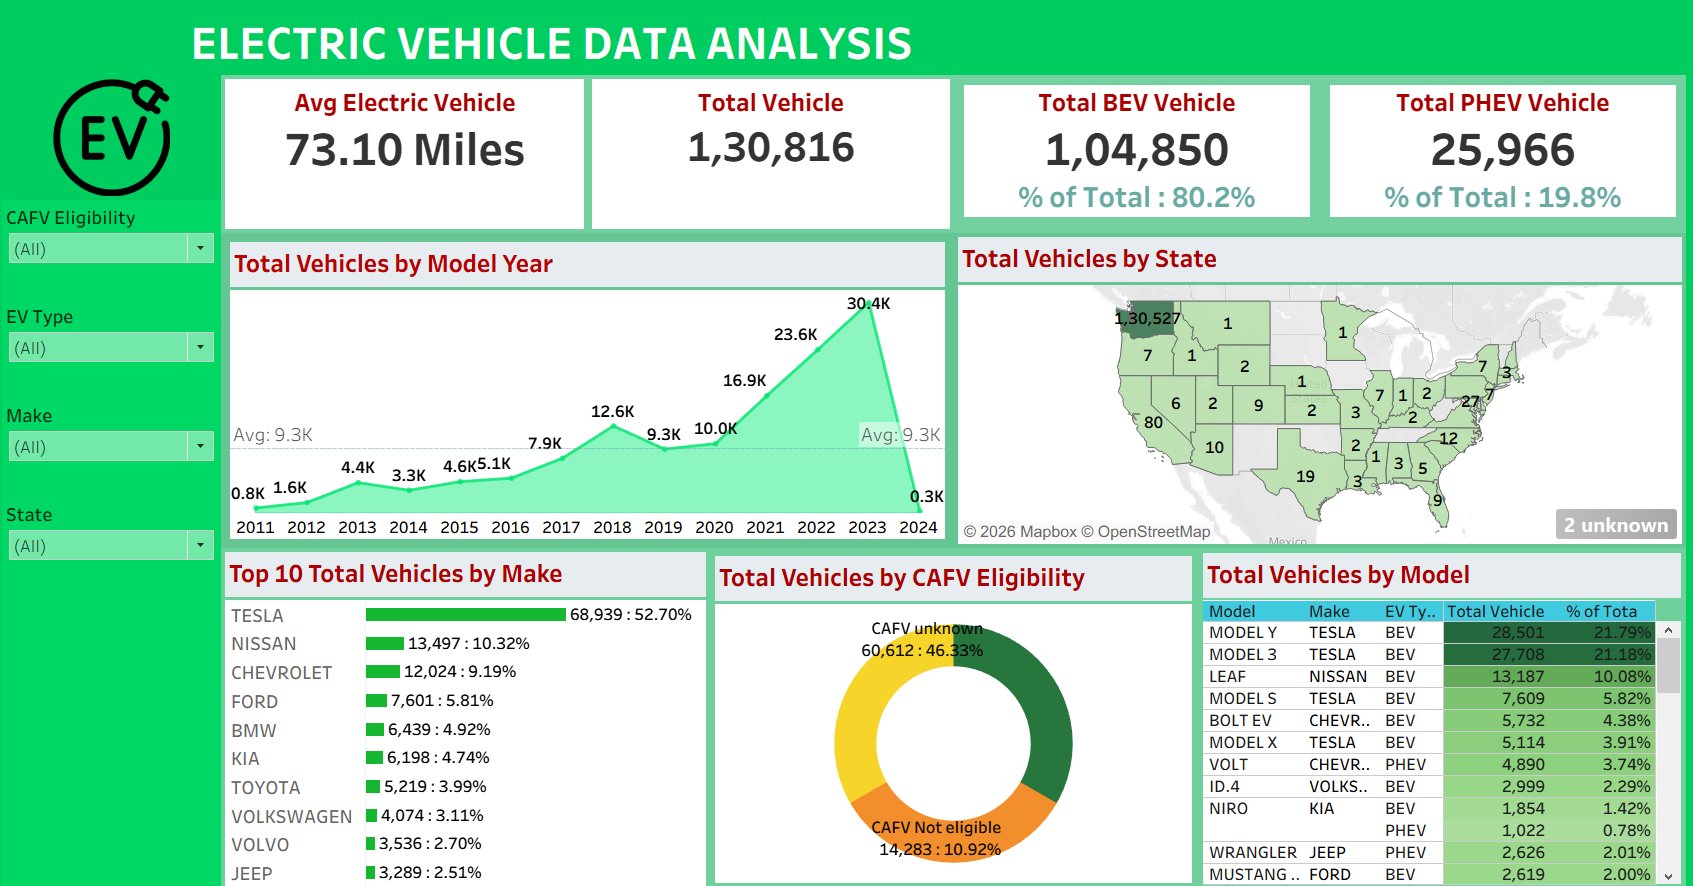

The page's visual inventory and layout, read from the dashboard file:
{"tool":"tableau","page":{"name":"Dashboard 1","canvas":[1000,1000],"units":"permille","ordinal":0},"visuals":[{"type":"title","box":[5,8.9,990,75.6]},{"type":"worksheet","title":"Avg Electric Range","mark":"Automatic","box":[133.8,84.4,215.6,192.2]},{"type":"worksheet","title":"Total Vehicle","mark":"Automatic","box":[349.4,84.4,215.6,192.2]},{"type":"worksheet","title":"Total BEV Vehicle","mark":"Automatic","box":[565,84.4,215,192.2]},{"type":"worksheet","title":"Total PHEV Vehicle","mark":"Automatic","box":[780,84.4,215,192.2]},{"type":"filter","title":"Top 10 Total Vehicles by Make","param":"[federated.1i2h1pt0ftk8nd10txexx1n7df2g].[none:State:nk]","box":[5,84.5,128.7,702.2]},{"type":"worksheet","title":"Total Vehicles by Model Year","mark":"Area","rows":["Calculation_0417869809979392","Calculation_0417869809979392"],"cols":["Model Year"],"box":[133.8,276.7,430.6,424.4]},{"type":"worksheet","title":"Total Vehicles by State","mark":"Multipolygon","box":[564.4,276.7,430.6,424.4]},{"type":"worksheet","title":"Top 10 Total Vehicles by Make","mark":"Automatic","rows":["Make"],"cols":["Calculation_0417869809979392"],"box":[133.8,701.1,287.5,290]},{"type":"worksheet","title":"Total Vehicles by CAFV Eligibility","mark":"Pie","rows":["Calculation_0826063597801473","Calculation_0826063597801473"],"box":[421.2,701.1,286.9,290]},{"type":"worksheet","title":"Total Vehicles by Model","mark":"Square","rows":["Model","Make","Electric Vehicle Type"],"box":[708.1,701.1,286.9,290]},{"type":"legend","title":"Total Vehicles by CAFV Eligibility","param":"[federated.1i2h1pt0ftk8nd10txexx1n7df2g].[none:Clean Alternative Fuel Vehicle (C","box":[5,786.7,128.7,121.1]},{"type":"legend","title":"Total Vehicles by Model","param":"[federated.1i2h1pt0ftk8nd10txexx1n7df2g].[usr:Calculation_0417869809979392:qk]","box":[5,907.8,128.7,83.3]}]}

Visuals, with their boxes on the dashboard's canvas, which has no fixed pixel size, in thousandths of its width and height (x1, y1, x2, y2). These are canvas units, not pixel positions in the 1693x886 screenshot, which may show the page scaled, cropped or inside an application window:
title: 5 9 995 84
"Avg Electric Range" worksheet: 134 84 349 277
"Total Vehicle" worksheet: 349 84 565 277
"Total BEV Vehicle" worksheet: 565 84 780 277
"Total PHEV Vehicle" worksheet: 780 84 995 277
"Top 10 Total Vehicles by Make" filter: 5 84 134 787
"Total Vehicles by Model Year" worksheet (Area marks): 134 277 564 701
"Total Vehicles by State" worksheet (Multipolygon marks): 564 277 995 701
"Top 10 Total Vehicles by Make" worksheet: 134 701 421 991
"Total Vehicles by CAFV Eligibility" worksheet (Pie marks): 421 701 708 991
"Total Vehicles by Model" worksheet (Square marks): 708 701 995 991
"Total Vehicles by CAFV Eligibility" legend: 5 787 134 908
"Total Vehicles by Model" legend: 5 908 134 991
